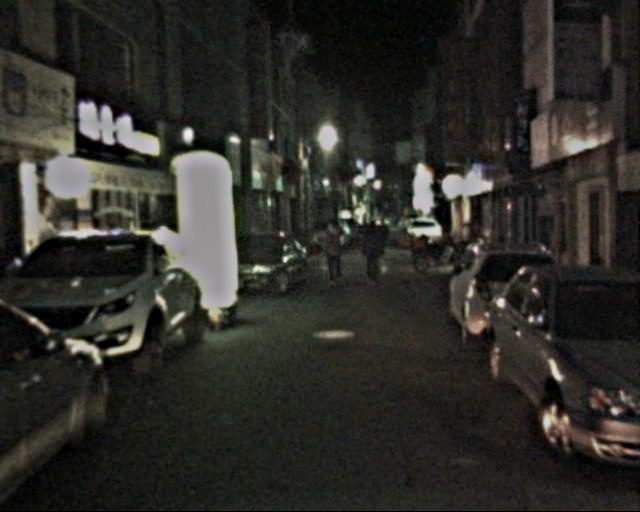person: (319, 220, 349, 293), (357, 222, 386, 292)
